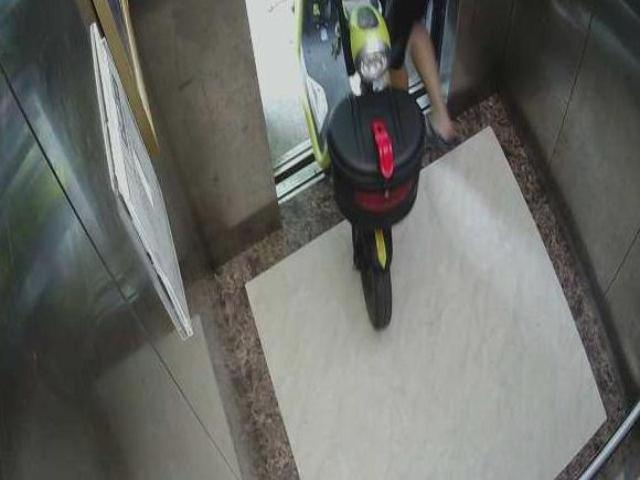emotor: (285, 7, 429, 320)
